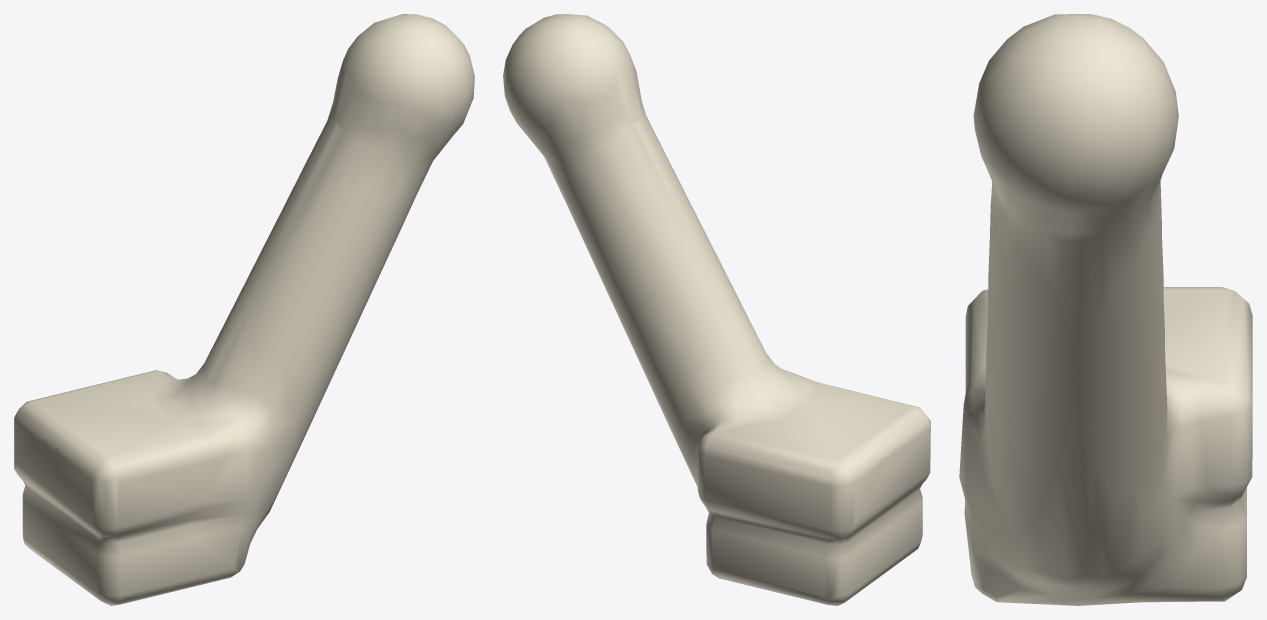
The model's file is tarsus_l.glb.
3 renders of one model, left to right at view 1: azimuth 30°, elevation 25°; view 2: azimuth 150°, elevation 25°; view 3: azimuth 270°, elevation 25°, orthographic. The views are drawn at different scales.
Visible parts, largest first — view 1: geometry_0; view 2: geometry_0; view 3: geometry_0.
Part boxes in pixels (<box>): geometry_0: <box>14,14,474,605</box>; geometry_0: <box>503,14,930,605</box>; geometry_0: <box>959,14,1252,605</box>.
Bounding box in the file's own units: 0.2512 × 0.2924 × 0.1063.
